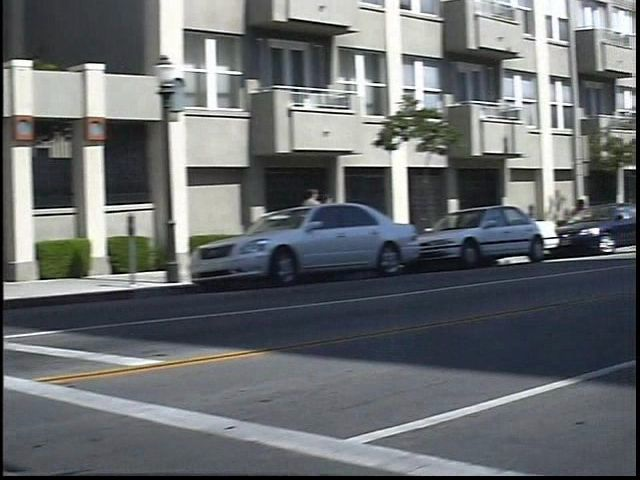person: (314, 182, 338, 256), (332, 189, 352, 251)
